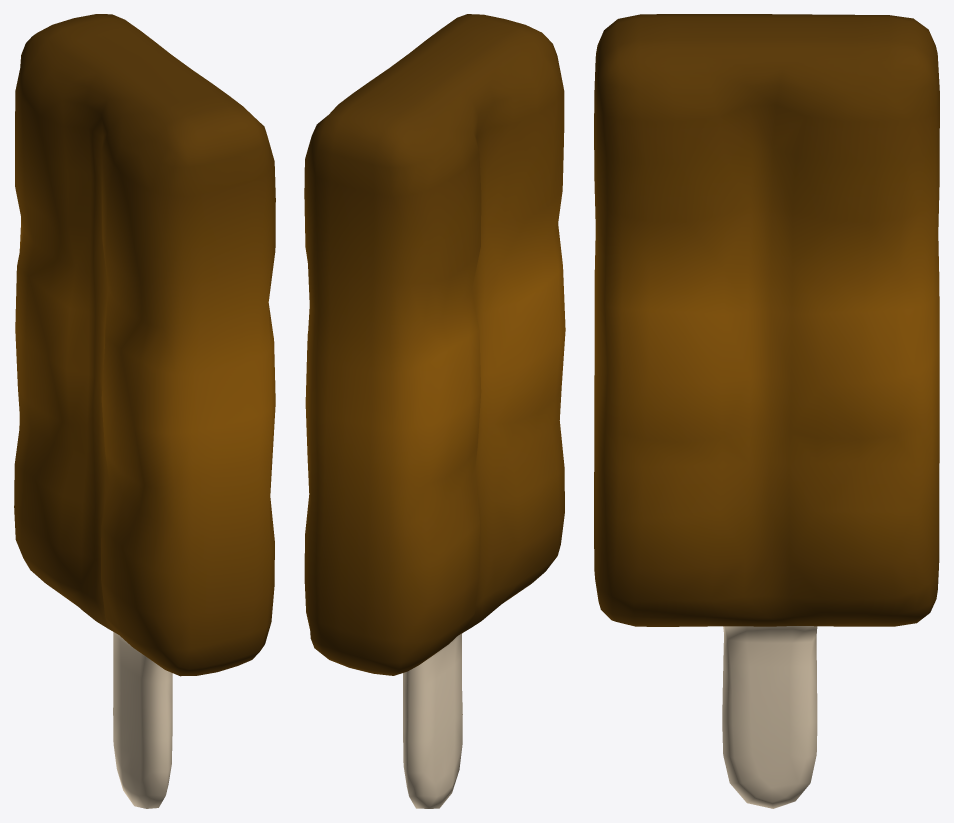
File: IceCream_0001_0030.fbx
3 renders of one model, left to right at view 1: azimuth 30°, elevation 25°; view 2: azimuth 150°, elevation 25°; view 3: azimuth 270°, elevation 25°, orthographic. The views are drawn at different scales.
Visible parts, largest first — view 1: Ice_0001_0030; view 2: Ice_0001_0030; view 3: Ice_0001_0030.
Part boxes in pixels (x1=…): Ice_0001_0030: x1=14, y1=14, x2=275, y2=808; Ice_0001_0030: x1=304, y1=14, x2=565, y2=808; Ice_0001_0030: x1=594, y1=14, x2=939, y2=808.
Bounding box in the file's own units: 0.0263 × 0.1333 × 0.0537.
1 material, 1 textured.
